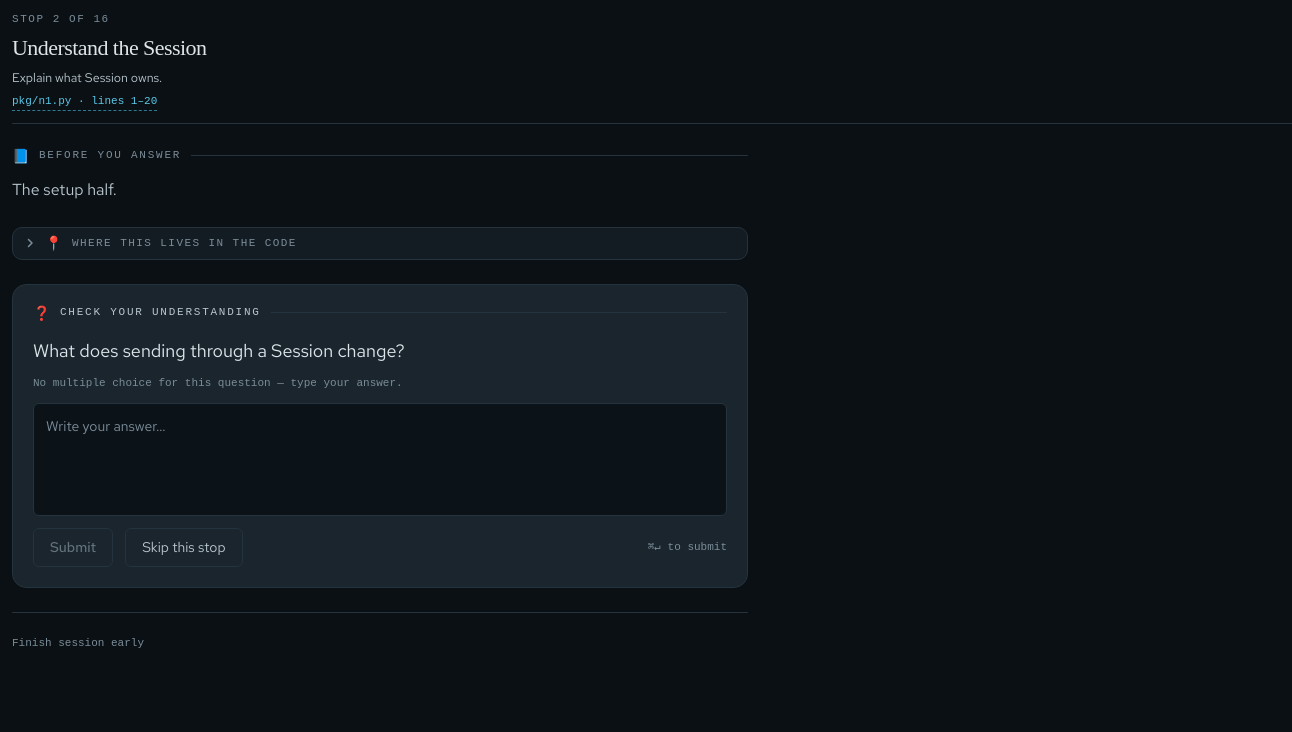
Test: Ask me again › runs a verification when the server says verify, aimed at its gap
Expected: the text "What does sending through a Session change?" is shown, [33,339,405,362]
Type "A wrong answer." into the text box with placeholder "Write your answer…" at (380, 459), box [33,403,727,516]
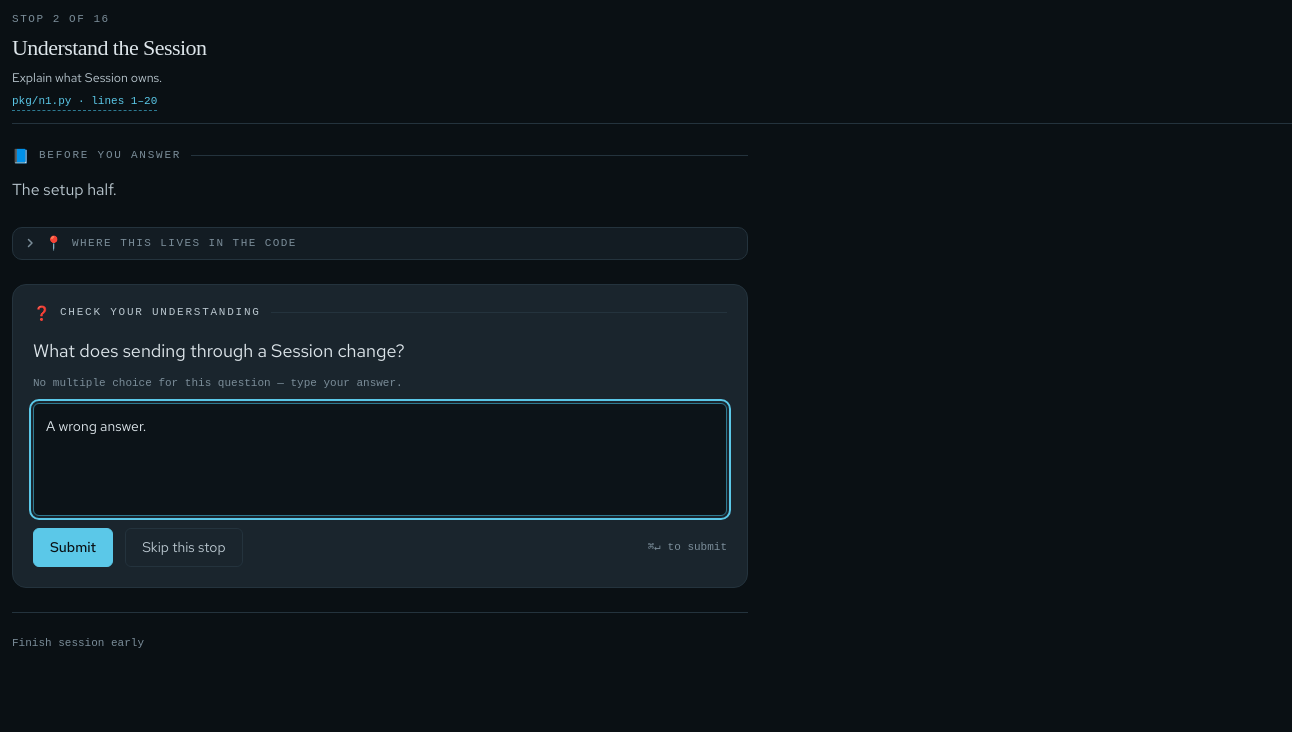
Click the button "Submit" at (73, 548), box [33,528,113,567]
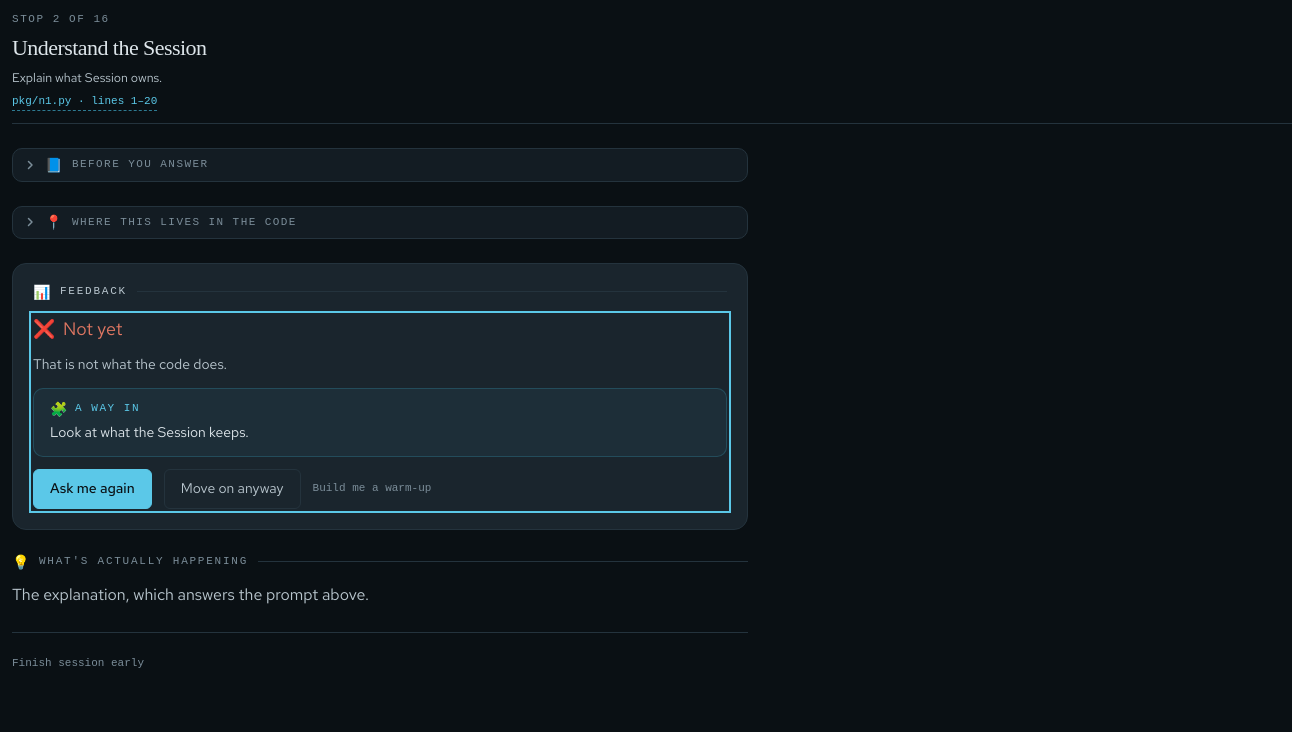
Expected: the text "That is not what the code does." is shown, [33,355,227,373]
Click the button "Ask me again" at (92, 489), box [33,469,152,509]
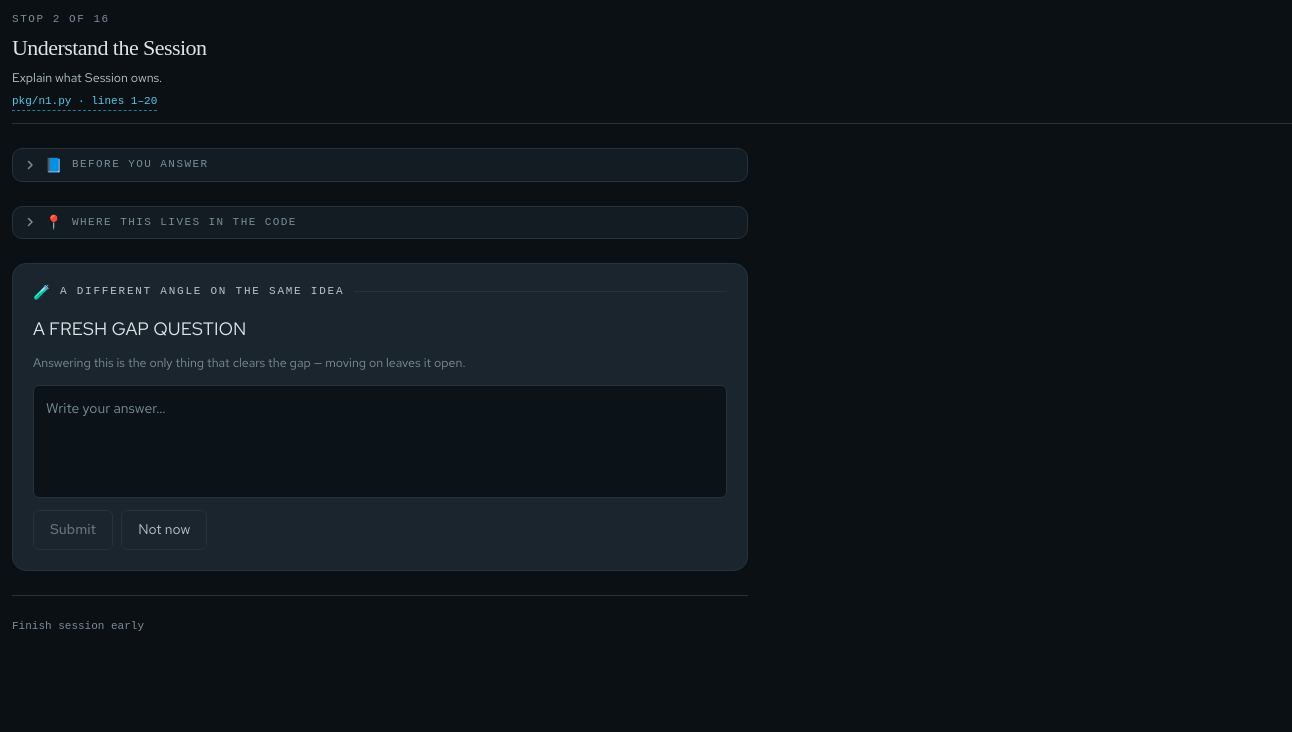
Expected: the text "A FRESH GAP QUESTION" is shown, [33,317,246,340]
